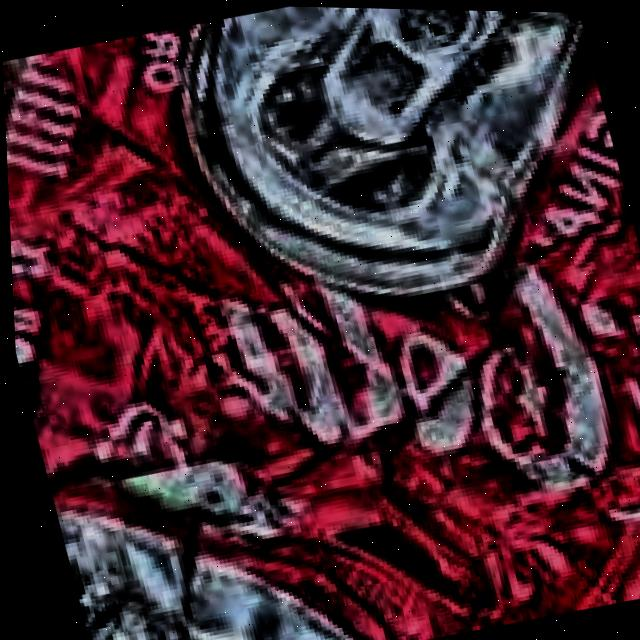metal: (5, 5, 640, 640)
